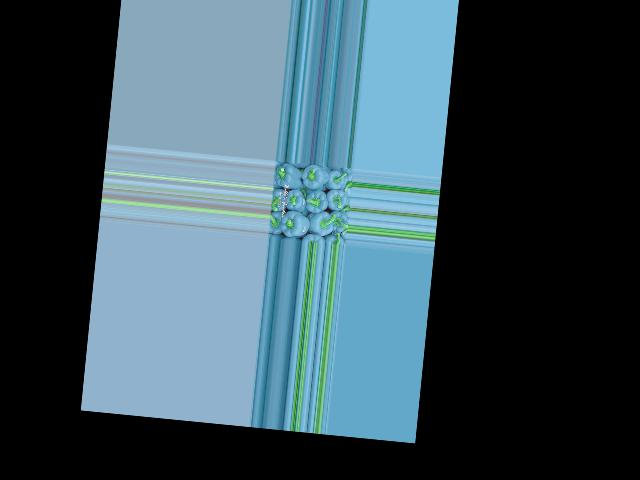bell_pepper: (267, 209, 286, 237)
